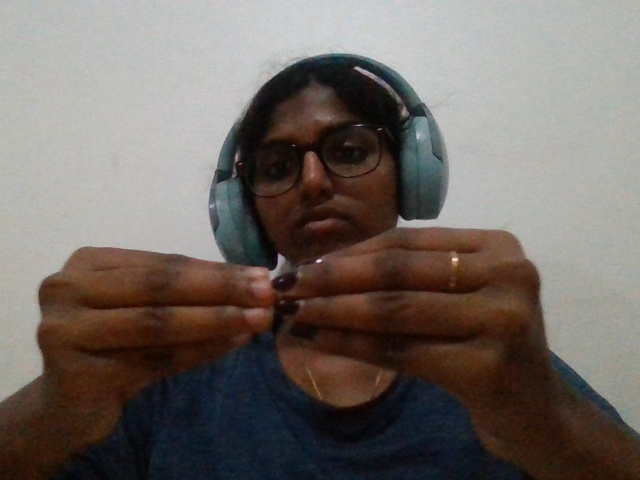More: (8, 205, 579, 480)
